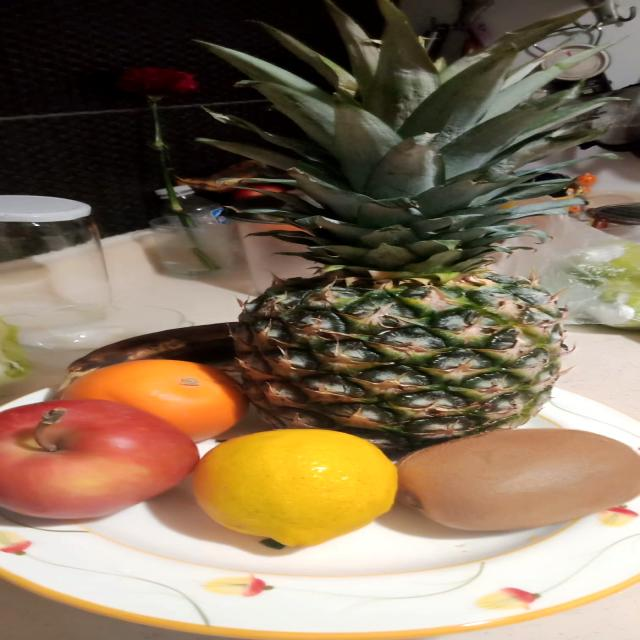lemon: (156, 426, 412, 556)
